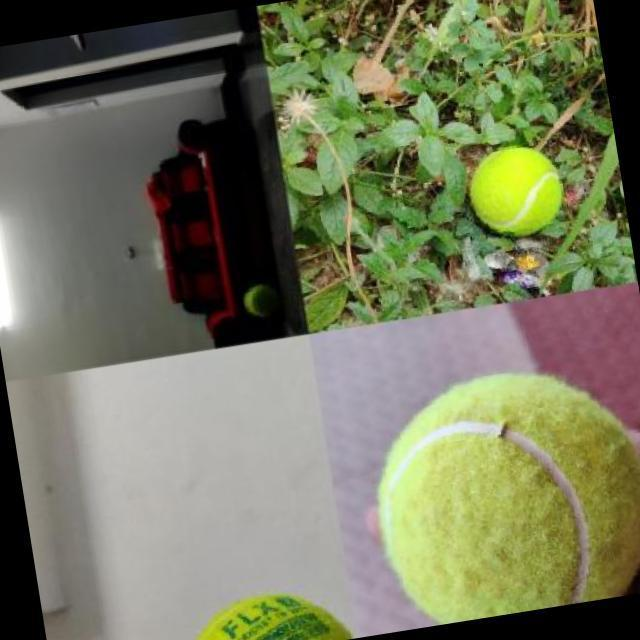-: (346, 348, 640, 634), (447, 124, 592, 273)
